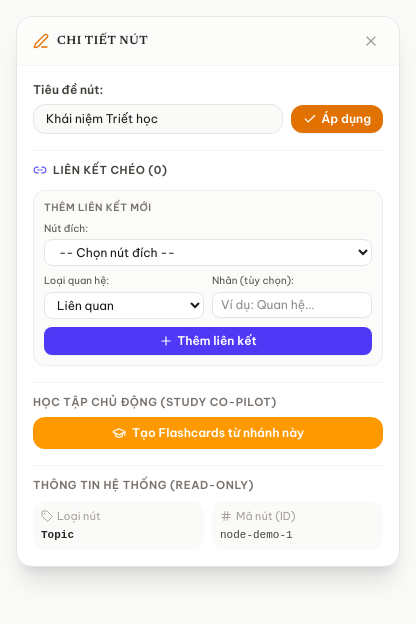
Test: PR 2 (Phase 25): Flashcard Creation Feedback & Outcome Contract › UI Feedback: MindMapNodeDrawer › Test 9: MindMapNodeDrawer displays 'Thẻ này đã tồn tại — không tạo trùng.' and does NOT show created message when outcome is existing
Click the button with test id "btn-create-flashcard-from-branch".
click(208, 433)  # box [33,417,383,449]
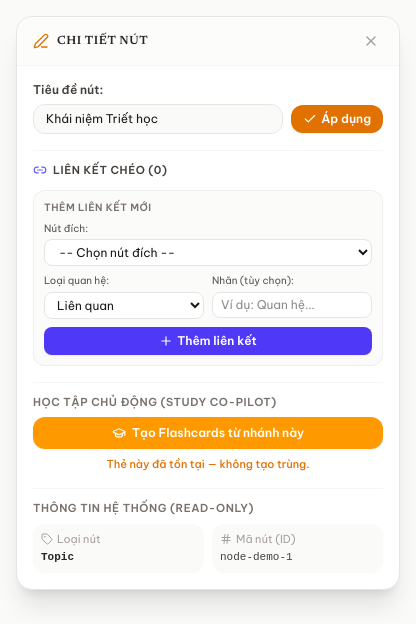
Now the text "Thẻ này đã tồn tại — không tạo trùng." is shown, box [106,457,310,472]
